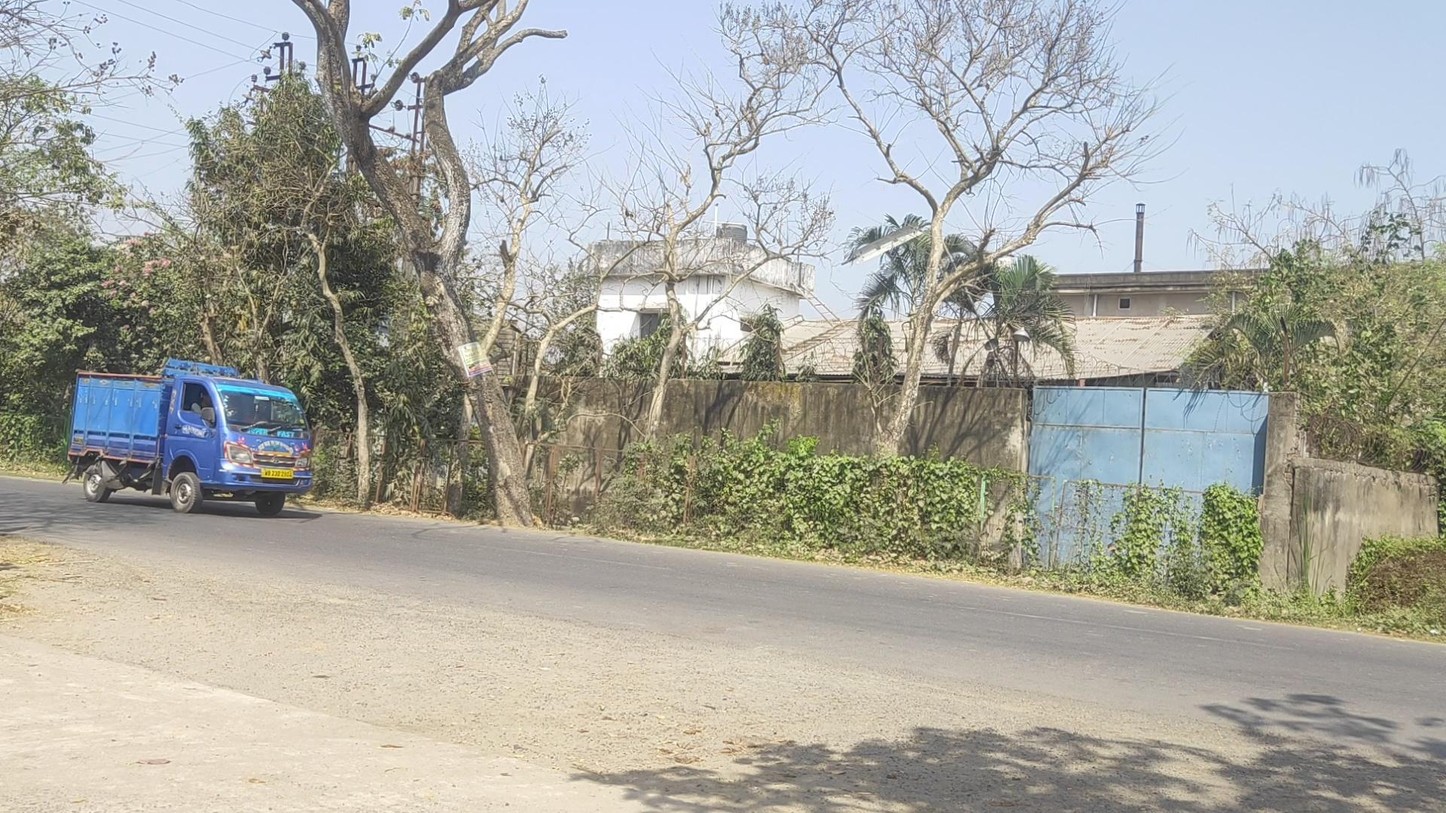van: (66, 358, 313, 516)
